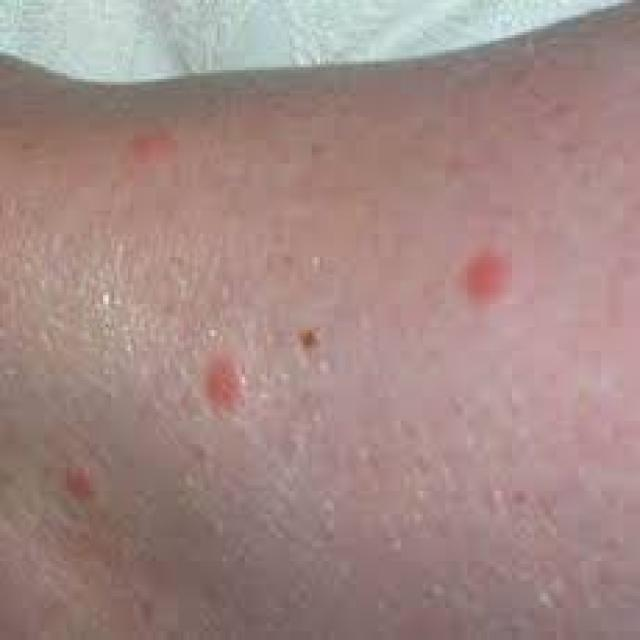tahta-kurusu: (422, 235, 529, 348), (56, 472, 155, 548), (168, 365, 256, 410)
